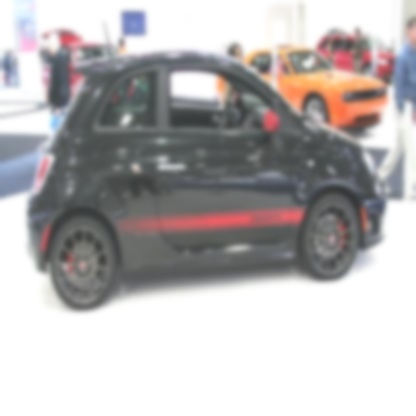Vehicle: (24, 52, 385, 310)
